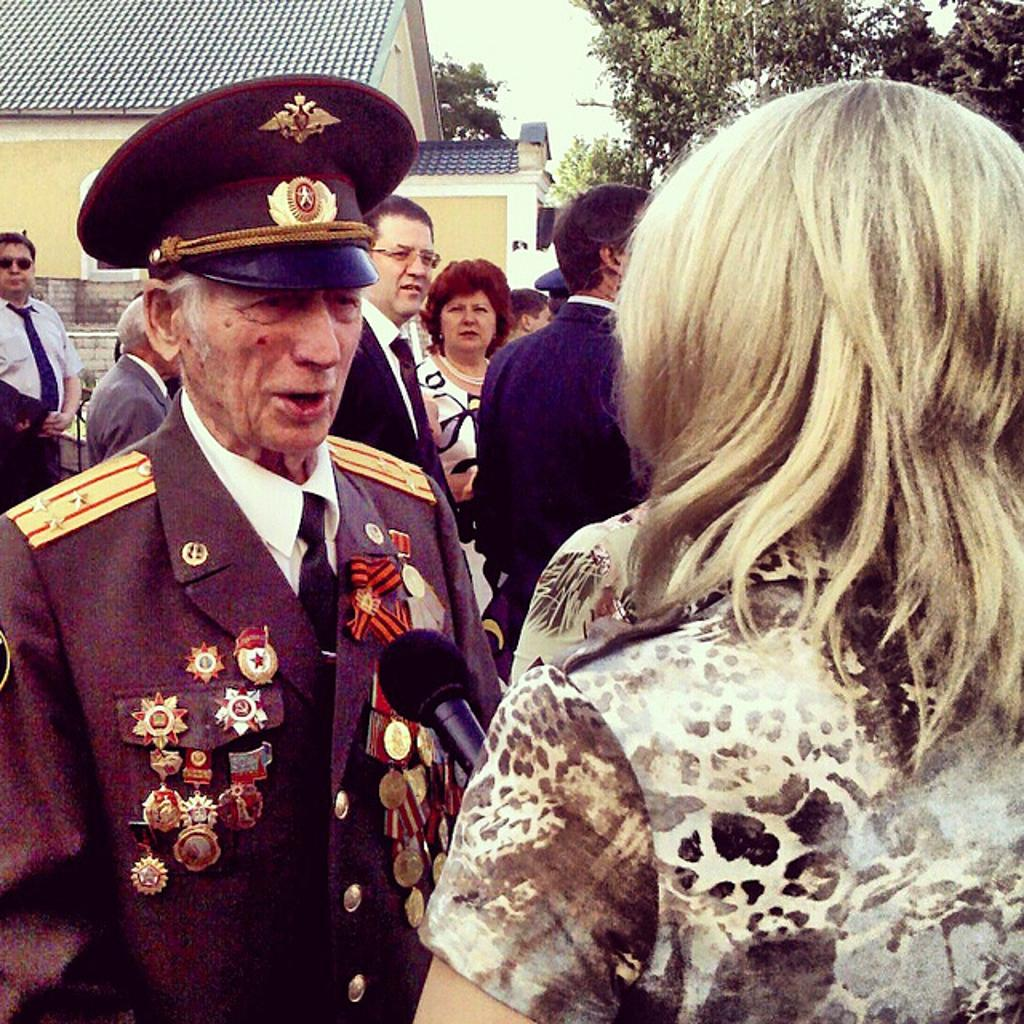face: (177, 248, 362, 450), (369, 214, 433, 314), (442, 289, 495, 350), (0, 242, 33, 292), (529, 302, 551, 343)
